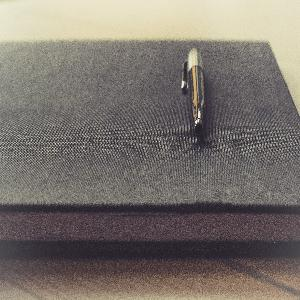pen: (178, 45, 209, 138)
